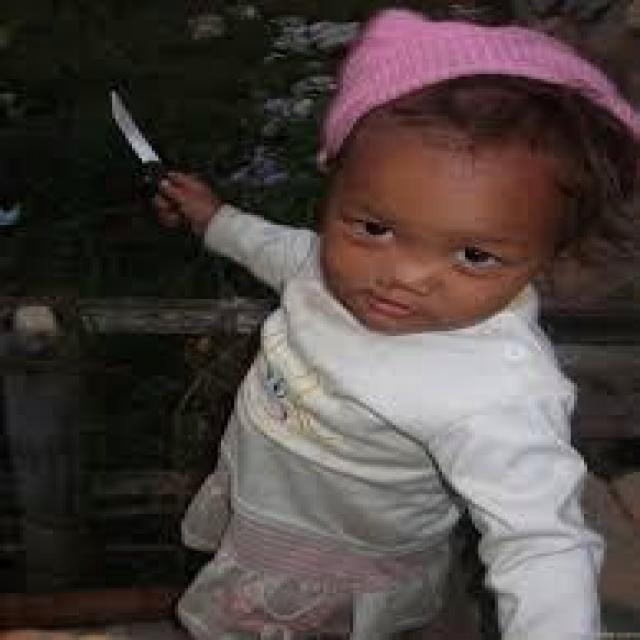child: (92, 5, 626, 640)
